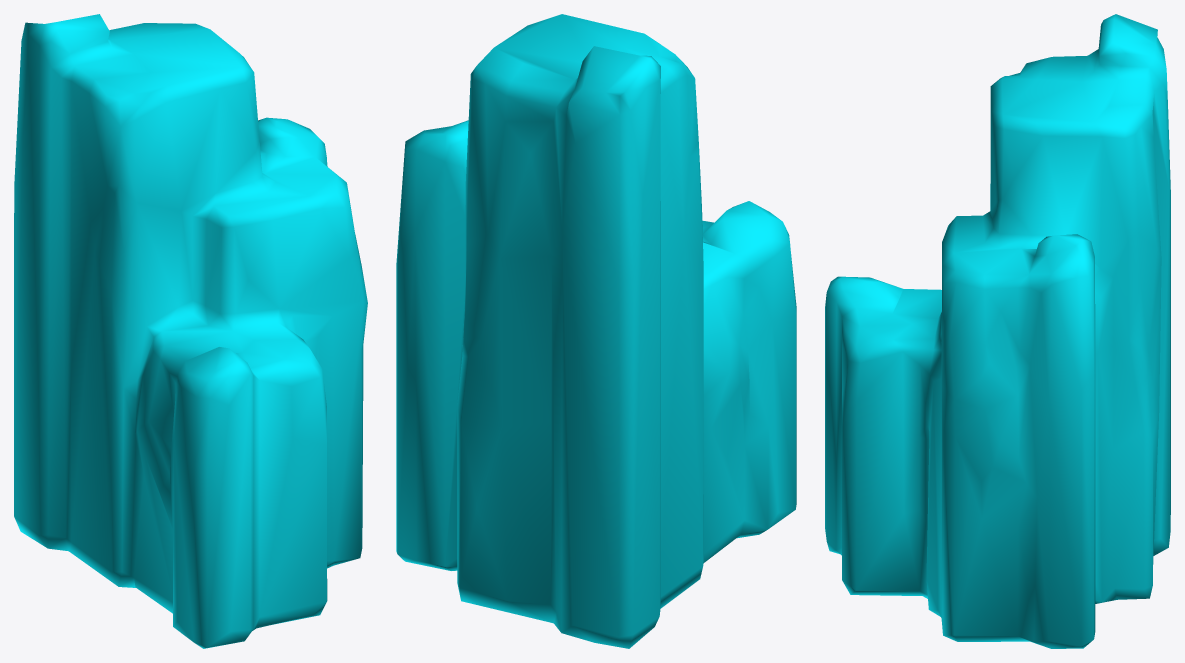
File: IcicleObsticle.fbx
3 renders of one model, left to right at view 1: azimuth 30°, elevation 25°; view 2: azimuth 150°, elevation 25°; view 3: azimuth 270°, elevation 25°, orthographic. The views are drawn at different scales.
Visible parts, largest first — view 1: Icicle; view 2: Icicle; view 3: Icicle.
Boxes of the visible parts, x1,y1,x2,y2 form: Icicle: [14, 14, 367, 648]; Icicle: [396, 14, 796, 648]; Icicle: [825, 14, 1170, 648].
Bounding box in the file's own units: 45.91 × 90 × 54.24.
